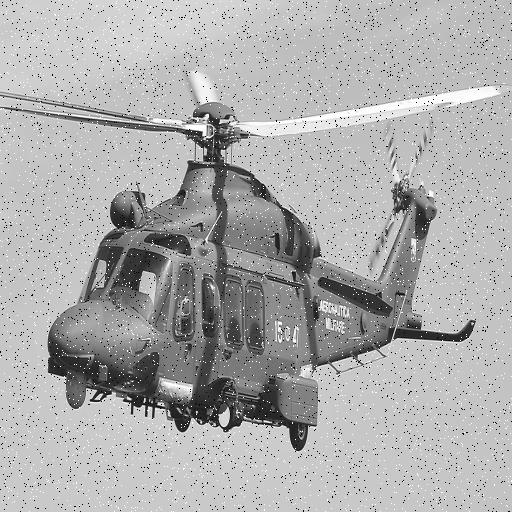helicopter: (1, 26, 512, 456)
